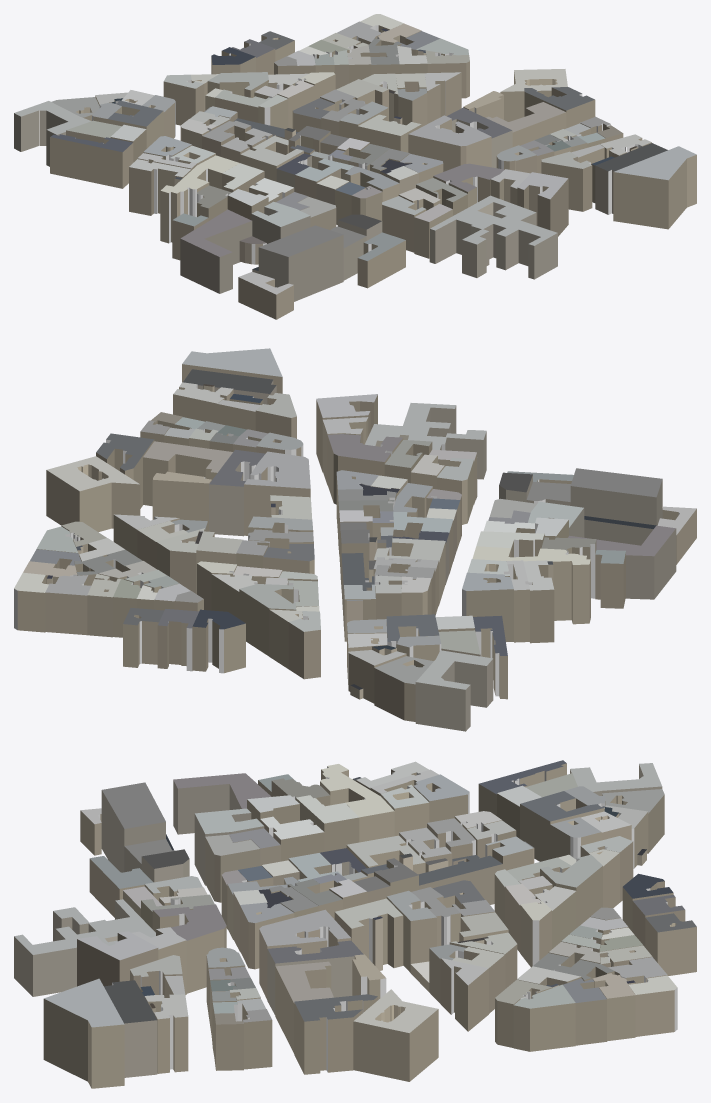
3 views of the same model, one above another, from view 1: azimuth 30°, elevation 25°; view 2: azimuth 150°, elevation 25°; view 3: azimuth 270°, elevation 25° (orthographic). The views are drawn at different scales.
Parts seen in each view (by area): view 1: tuile; view 2: tuile; view 3: tuile.
Boxes of the visible parts, x1,y1,x2,y2 form: tuile: (14, 14, 696, 319); tuile: (14, 348, 696, 731); tuile: (14, 760, 696, 1088).
Size of the model in its own units: 282 by 34.94 by 292.
